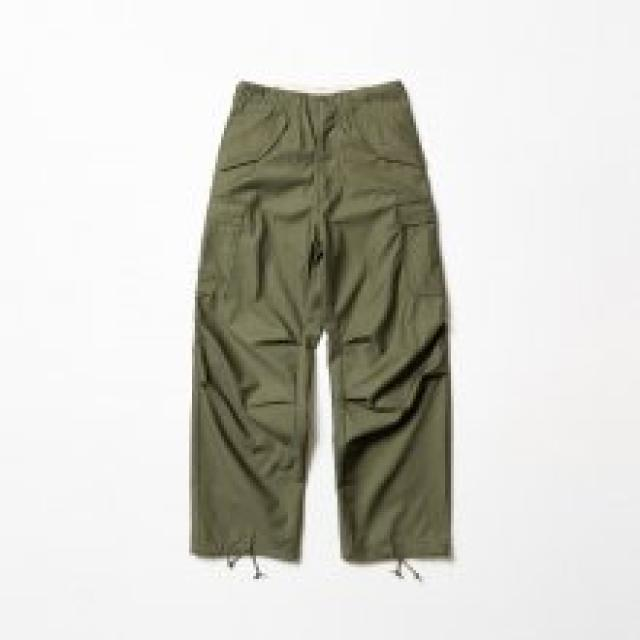long-pants: (189, 81, 454, 582)
